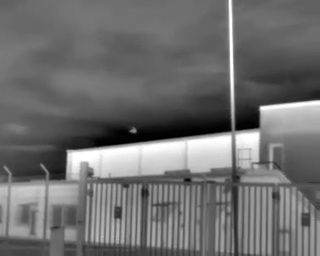HELICOPTER: (127, 123, 142, 137)
